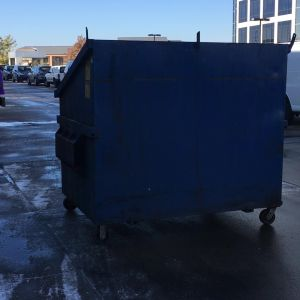Dumpster: (51, 25, 300, 244)
